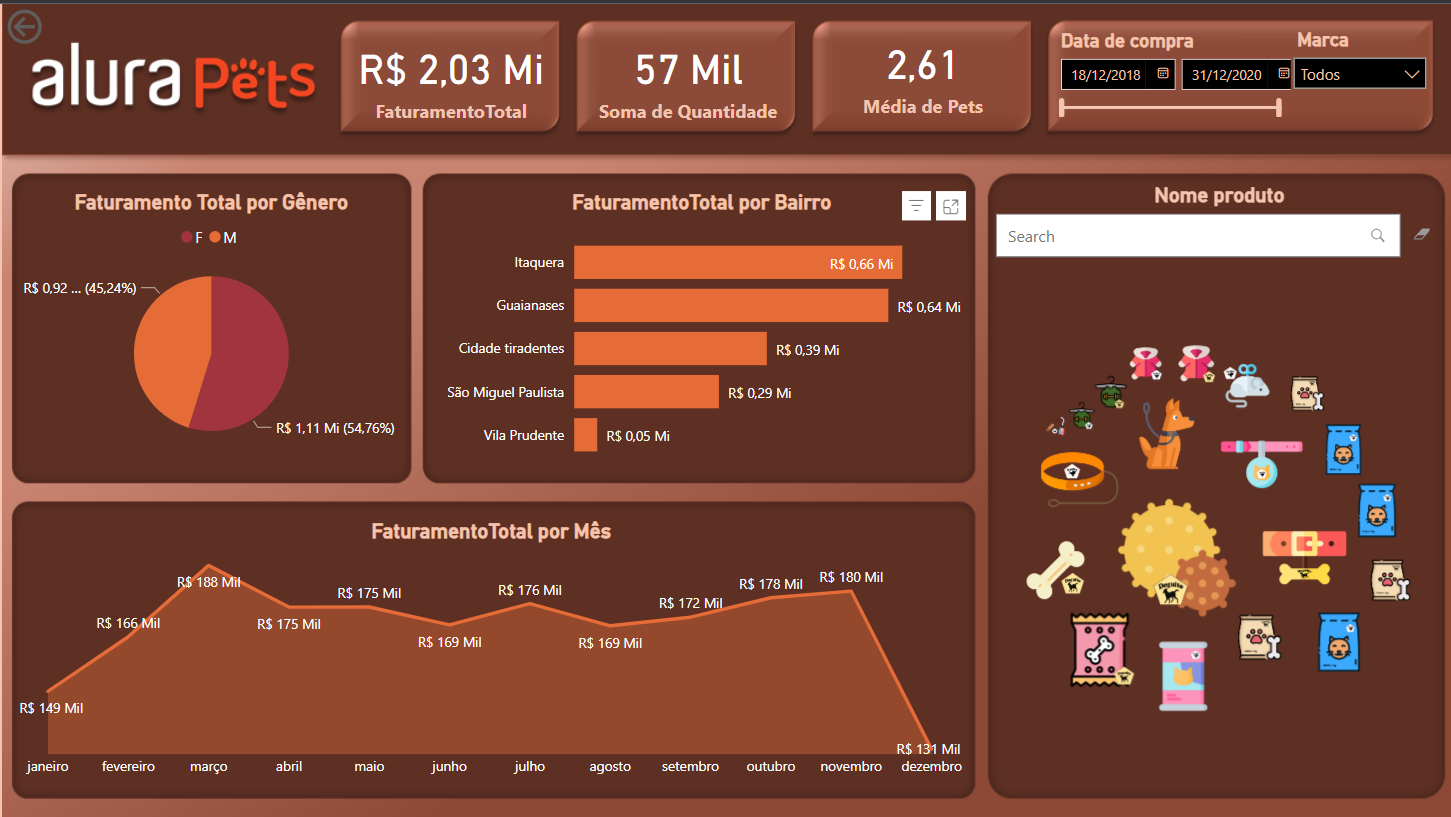

This screenshot's page, from the dashboard's own definition file:
{"tool":"powerbi","page":{"name":"PainelPets","canvas":[1280,720],"ordinal":0},"visuals":[{"type":"card","fields":{"Values":["Vendas.FaturamentoTotal"]},"box":[300.3,16.9,190.6,97.7],"z":0},{"type":"card","fields":{"Values":["Avg(Clientes.Pets)"]},"box":[716.4,16.9,191.8,89.2],"z":1000},{"type":"card","fields":{"Values":["Sum(Vendas.Quantidade)"]},"box":[507.7,16.9,194.2,97.7],"z":2000},{"type":"pieChart","title":"Faturamento Total por Gênero","fields":{"Y":["Vendas.FaturamentoTotal"],"Category":["Clientes.Gênero"]},"box":[12.1,164,344.9,232.8],"z":3000},{"type":"clusteredBarChart","fields":{"Category":["Clientes.Bairro"],"Y":["Vendas.FaturamentoTotal"]},"box":[383.5,164,466.7,246],"z":4000},{"type":"areaChart","fields":{"Category":["Vendas.Data de compra.Variation.Hierarquia de datas.Ano","Vendas.Data de compra.Variation.Hierarquia de datas.Trimestre","Vendas.Data de compra.Variation.Hierarquia de datas.Mês"],"Y":["Vendas.FaturamentoTotal"]},"box":[12.1,453.5,838.2,231.6],"z":5000},{"type":"ImageGrid_FC5183B9_926C_45E0_B5F7_0CE9EAF1DA9B","fields":{"ImageURLHQ":["Produtos.Url img"]},"box":[875.6,227.9,394.4,467.9],"z":6000},{"type":"textFilter25A4896A83E0487089E2B90C9AE57C8A","fields":{"field":["Produtos.Nome produto"]},"box":[875.6,158,394.4,73.6],"z":7000},{"type":"slicer","fields":{"Values":["Produtos.Marca"]},"box":[1134,21,126.6,77],"z":7001},{"type":"slicer","fields":{"Values":["Vendas.Data de compra"]},"box":[925,22,210,93],"z":7002},{"type":"actionButton","box":[0,0,100,40],"z":7003}]}

Visuals, with their boxes in screenshot pixels (x1, y1, x2, y2), scaled from the page's 1280x720 canvas onto the 1451x817 screenshot:
card - Vendas.FaturamentoTotal: BBox(340, 19, 556, 130)
card - Avg(Clientes.Pets): BBox(812, 19, 1030, 120)
card - Sum(Vendas.Quantidade): BBox(576, 19, 796, 130)
"Faturamento Total por Gênero" pieChart: BBox(14, 186, 405, 450)
clusteredBarChart - Clientes.Bairro x Vendas.FaturamentoTotal: BBox(435, 186, 964, 465)
areaChart - Vendas.Data de compra.Variation.Hierarquia de datas.Ano x Vendas.Data de compra.Variation.Hierarquia de datas.Trimestre: BBox(14, 515, 964, 777)
ImageGrid_FC5183B9_926C_45E0_B5F7_0CE9EAF1DA9B - Produtos.Url img: BBox(993, 259, 1440, 790)
textFilter25A4896A83E0487089E2B90C9AE57C8A - Produtos.Nome produto: BBox(993, 179, 1440, 263)
slicer - Produtos.Marca: BBox(1285, 24, 1429, 111)
slicer - Vendas.Data de compra: BBox(1049, 25, 1287, 130)
actionButton: BBox(0, 0, 113, 45)
